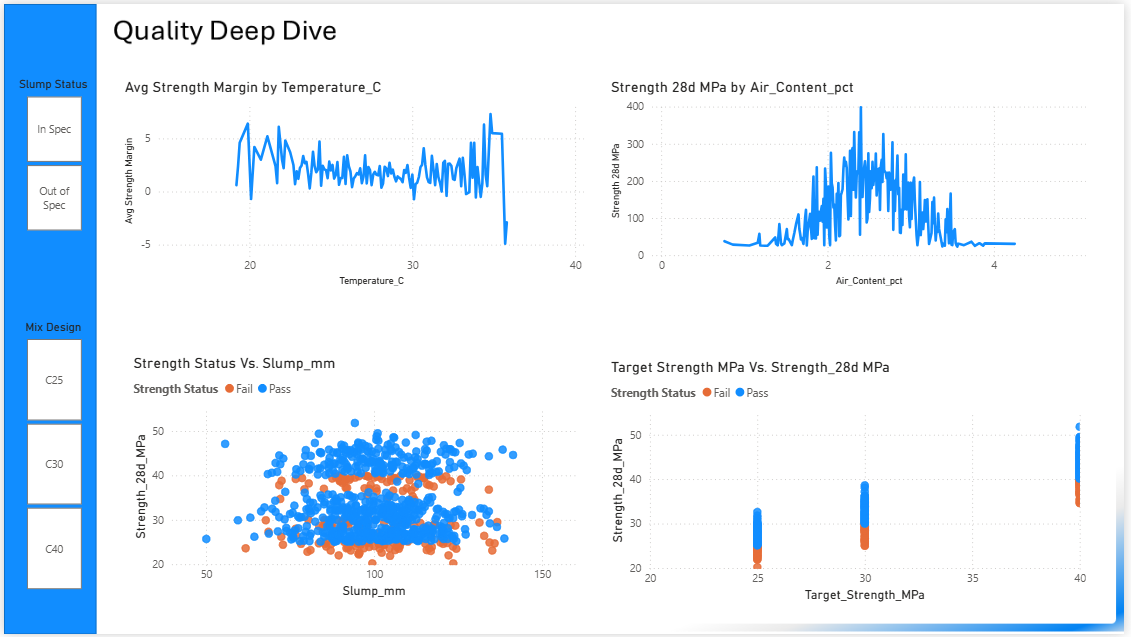

The dashboard page shown, as its layout file describes it:
{"tool":"powerbi","page":{"name":"Page 2","canvas":[1280,720],"ordinal":1},"visuals":[{"type":"shape","box":[0,0,105.7,720.4],"z":0},{"type":"scatterChart","title":"Strength Status Vs. Slump_mm ","fields":{"X":["cement_qc_cleaned.Slump_mm"],"Y":["cement_qc_cleaned.Strength_28d_MPa"],"Series":["cement_qc_cleaned.Strength_Status"]},"box":[142.7,399.3,525.6,284],"z":1000},{"type":"lineChart","fields":{"Category":["cement_qc_cleaned.Temperature_C"],"Y":["Dax Calculation.Avg Strength Margin"]},"box":[133.1,83.7,535.2,242.9],"z":2000},{"type":"lineChart","fields":{"Y":["Sum(cement_qc_cleaned.Strength_28d_MPa)"],"Category":["cement_qc_cleaned.Air_Content_pct"]},"box":[688.9,83.7,553,242.9],"z":3000},{"type":"scatterChart","title":" Target Strength MPa Vs. Strength_28d MPa","fields":{"X":["cement_qc_cleaned.Target_Strength_MPa"],"Y":["cement_qc_cleaned.Strength_28d_MPa"],"Series":["cement_qc_cleaned.Strength_Status"]},"box":[688.9,404.8,553,284],"z":4000},{"type":"slicer","title":"Mix Design","fields":{"Values":["cement_qc_cleaned.Mix_Design"]},"box":[0,360.9,112.5,314.2],"z":5000},{"type":"slicer","title":"Slump Status","fields":{"Values":["cement_qc_cleaned.Slump_Status"]},"box":[0,83.7,112.5,181.1],"z":6000}]}

Visuals, with their boxes in screenshot pixels (x1, y1, x2, y2), scaled from the page's 1280x720 canvas onto the 1131x637 screenshot:
shape: region(0, 0, 93, 636)
"Strength Status Vs. Slump_mm " scatterChart: region(126, 353, 591, 605)
lineChart - cement_qc_cleaned.Temperature_C x Dax Calculation.Avg Strength Margin: region(118, 74, 591, 289)
lineChart - Sum(cement_qc_cleaned.Strength_28d_MPa) x cement_qc_cleaned.Air_Content_pct: region(609, 74, 1097, 289)
" Target Strength MPa Vs. Strength_28d MPa" scatterChart: region(609, 358, 1097, 609)
"Mix Design" slicer: region(0, 319, 99, 597)
"Slump Status" slicer: region(0, 74, 99, 234)
